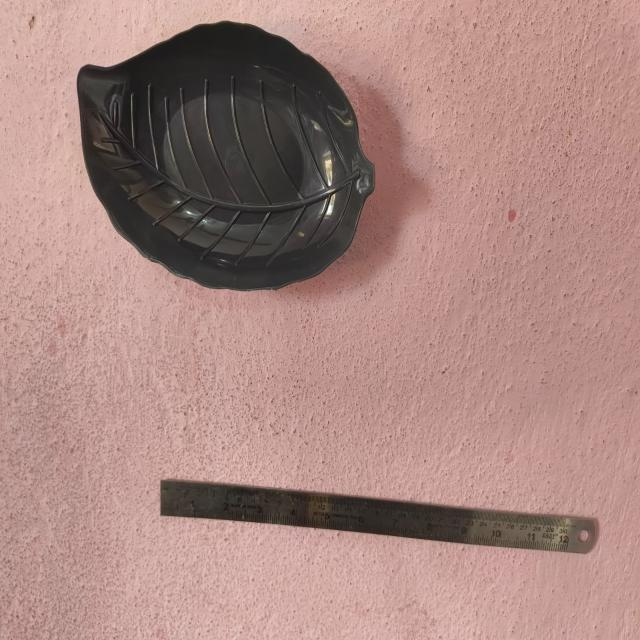pen: (75, 0, 379, 294)
plate: (154, 450, 604, 565)
